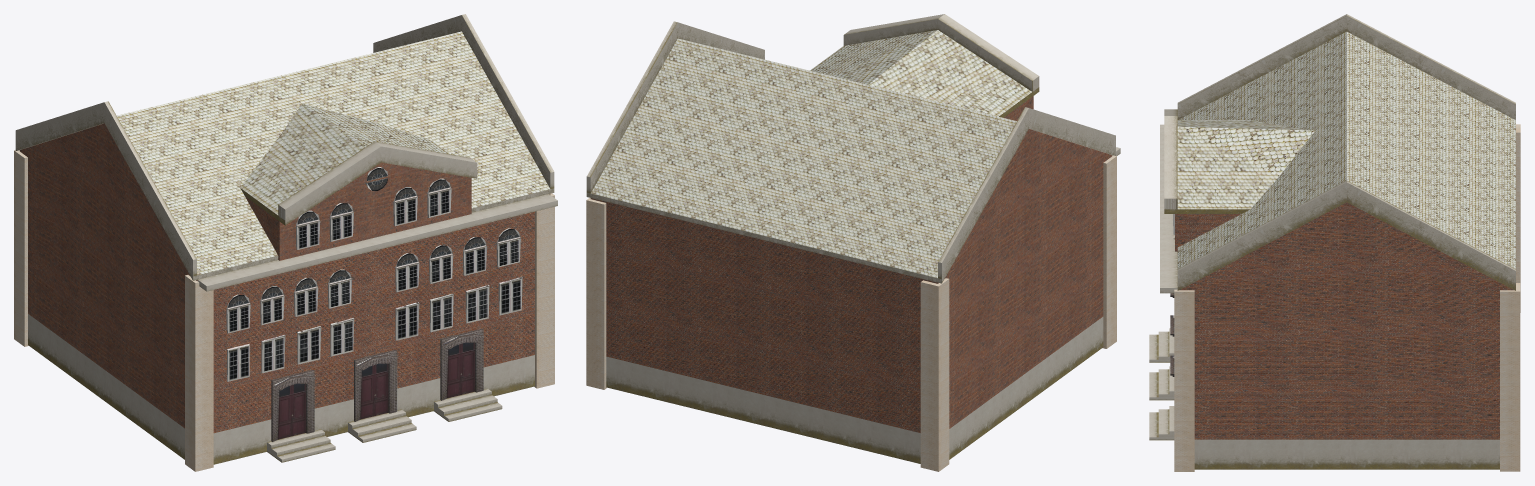
File: city3_h13_LOD.fbx
The picture shows the model from 3 angles, left to right: view 1: azimuth 30°, elevation 25°; view 2: azimuth 150°, elevation 25°; view 3: azimuth 270°, elevation 25°; orthographic projection. The views are drawn at different scales.
Visible parts, largest first — view 1: Default_Layer; view 2: Default_Layer; view 3: Default_Layer.
Part boxes in pixels (box(x1,y1,x2,y2)): Default_Layer: box(14, 14, 557, 471); Default_Layer: box(586, 14, 1120, 471); Default_Layer: box(1149, 14, 1520, 471).
Size of the model in its own units: 942 by 757 by 878.
